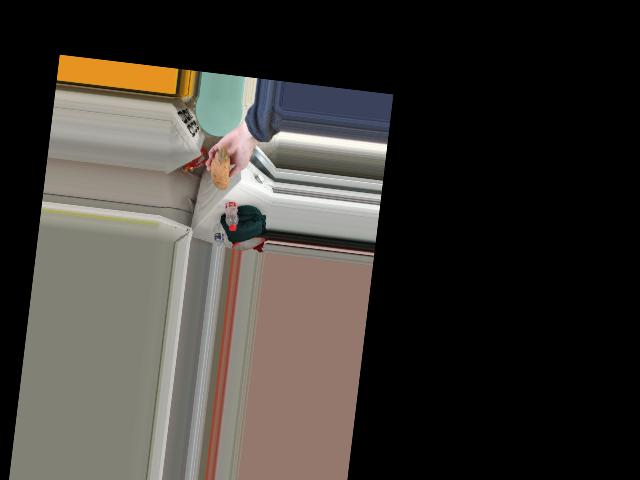sweet_potato: (208, 150, 232, 200)
